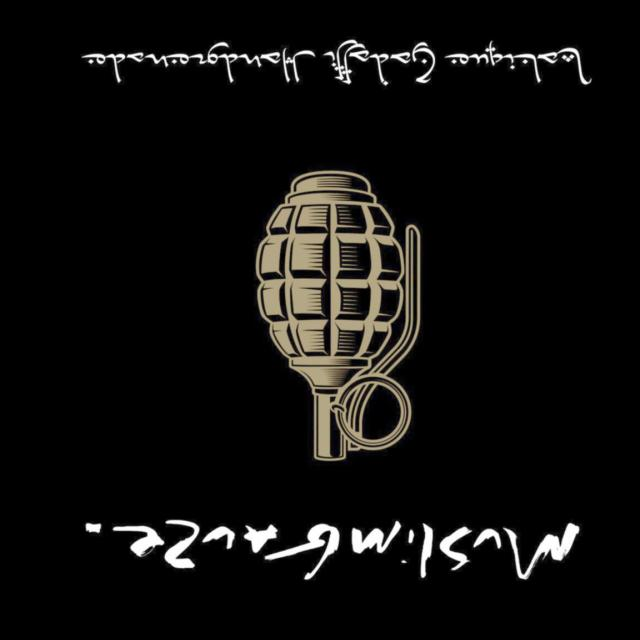grenade: (258, 172, 421, 462)
